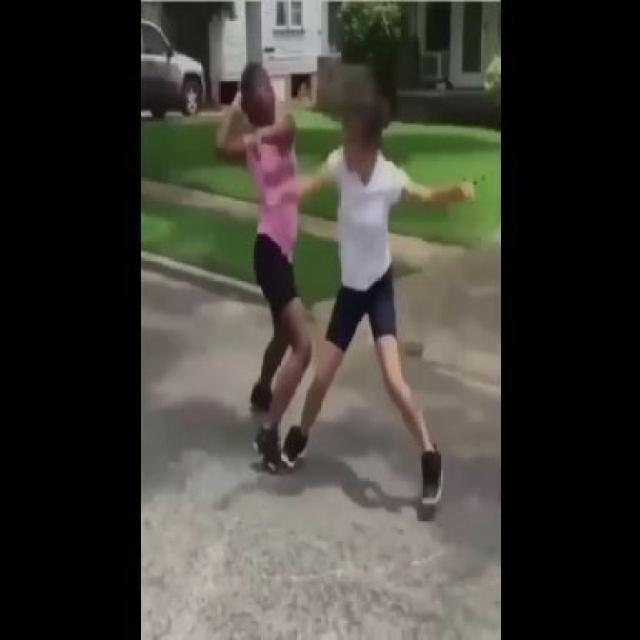fight: (211, 57, 477, 524)
